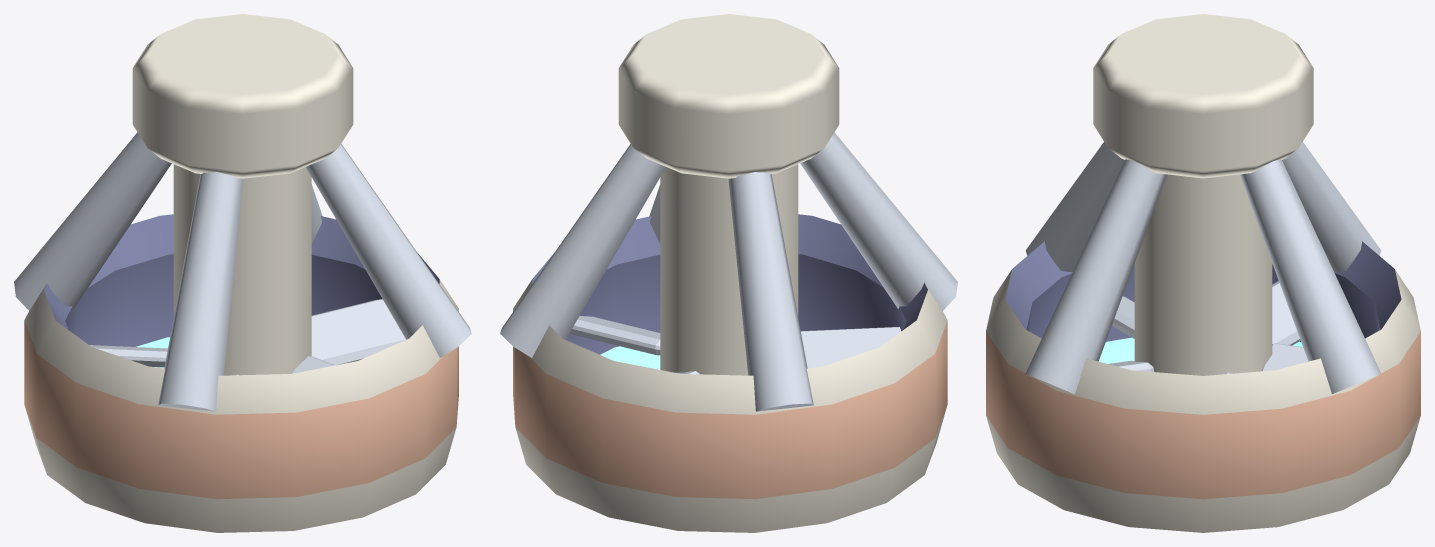
Rendered from R4X_HoverEngine_LOD1.fbx.
The picture shows the model from 3 angles, left to right: view 1: azimuth 30°, elevation 25°; view 2: azimuth 150°, elevation 25°; view 3: azimuth 270°, elevation 25°; orthographic projection.
Parts seen in each view (by area): view 1: R4X_HoverEngine_LOD1; view 2: R4X_HoverEngine_LOD1; view 3: R4X_HoverEngine_LOD1.
Part boxes in pixels (left/top/right/bottom): R4X_HoverEngine_LOD1: left=14, top=14, right=471, bottom=532; R4X_HoverEngine_LOD1: left=500, top=14, right=957, bottom=532; R4X_HoverEngine_LOD1: left=986, top=14, right=1420, bottom=532.
Size of the model in its own units: 0.5116 by 0.52 by 0.5138.
